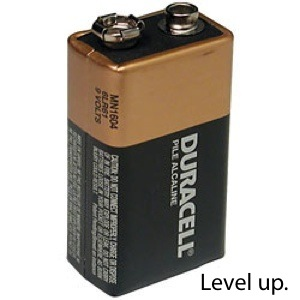9V: (60, 3, 233, 297)
